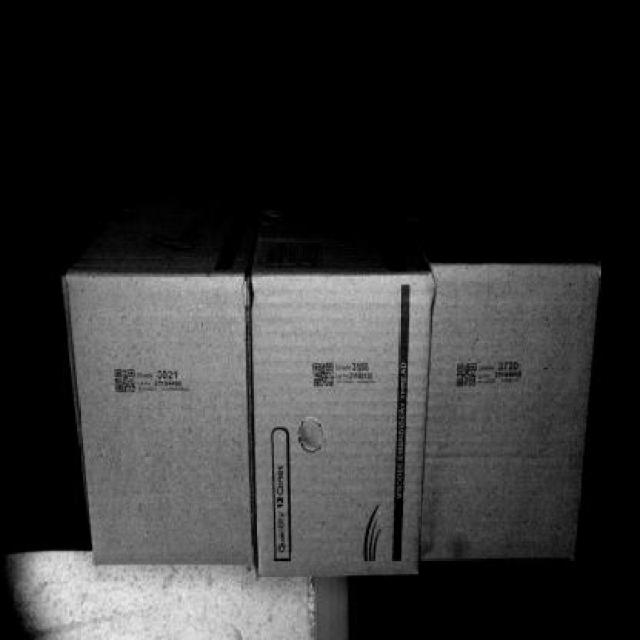cardboxes: (67, 272, 256, 574), (260, 274, 423, 568), (434, 266, 586, 559)
